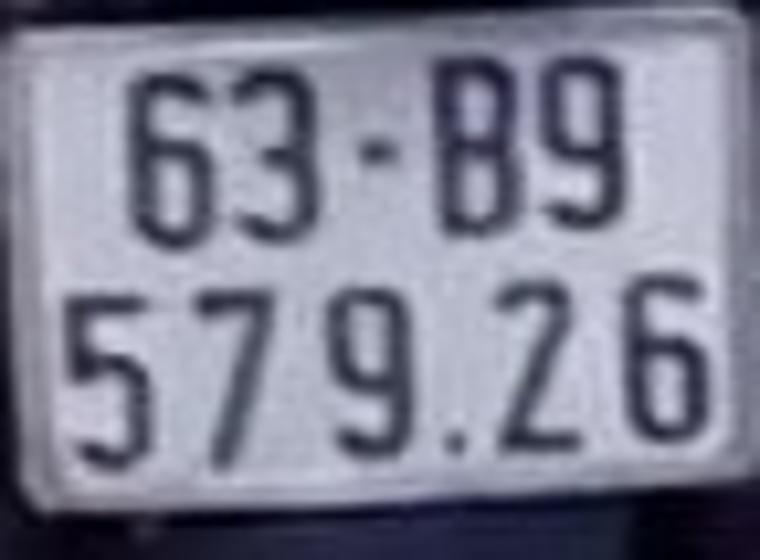-: (357, 137, 397, 161)
.: (443, 434, 465, 454)
2: (499, 279, 580, 451)
3: (237, 68, 316, 246)
5: (60, 295, 153, 471)
6: (617, 269, 712, 439), (129, 77, 215, 255)
7: (197, 289, 276, 468)
9: (324, 285, 413, 453), (544, 55, 623, 227)
B: (430, 56, 521, 233)
